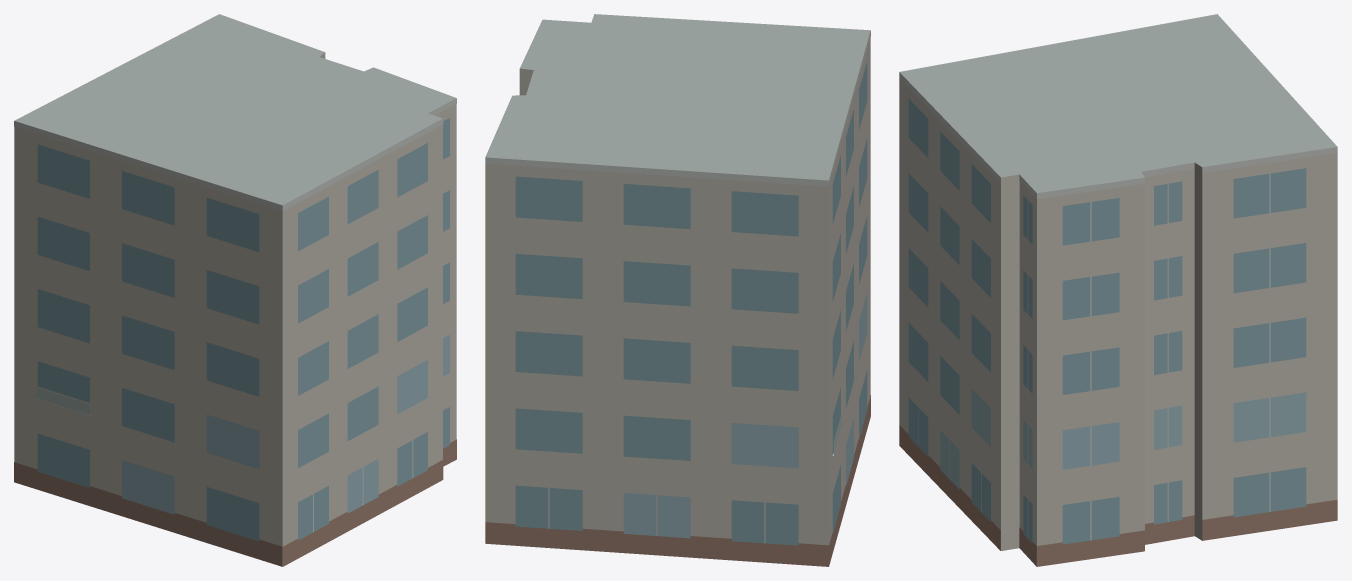
The model's file is survey-upis-32894566.glb.
3 renders of one model, left to right at view 1: azimuth 30°, elevation 25°; view 2: azimuth 150°, elevation 25°; view 3: azimuth 270°, elevation 25°, orthographic. The views are drawn at different scales.
Visible parts, largest first — view 1: survey-upis-32894566.tmp; view 2: survey-upis-32894566.tmp; view 3: survey-upis-32894566.tmp.
Part boxes in pixels (bbox=[...]): survey-upis-32894566.tmp: bbox=[14, 14, 456, 566]; survey-upis-32894566.tmp: bbox=[485, 14, 870, 566]; survey-upis-32894566.tmp: bbox=[899, 14, 1337, 566].
Size of the model in its own units: 15.49 by 15.05 by 16.01.
